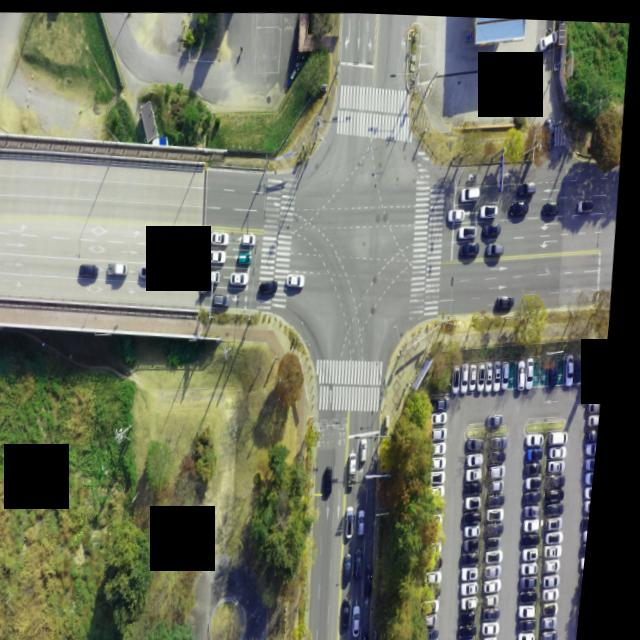car: (366, 432, 377, 458), (558, 424, 575, 439)
small_truck: (355, 444, 367, 483), (204, 265, 227, 282), (111, 258, 132, 273)
